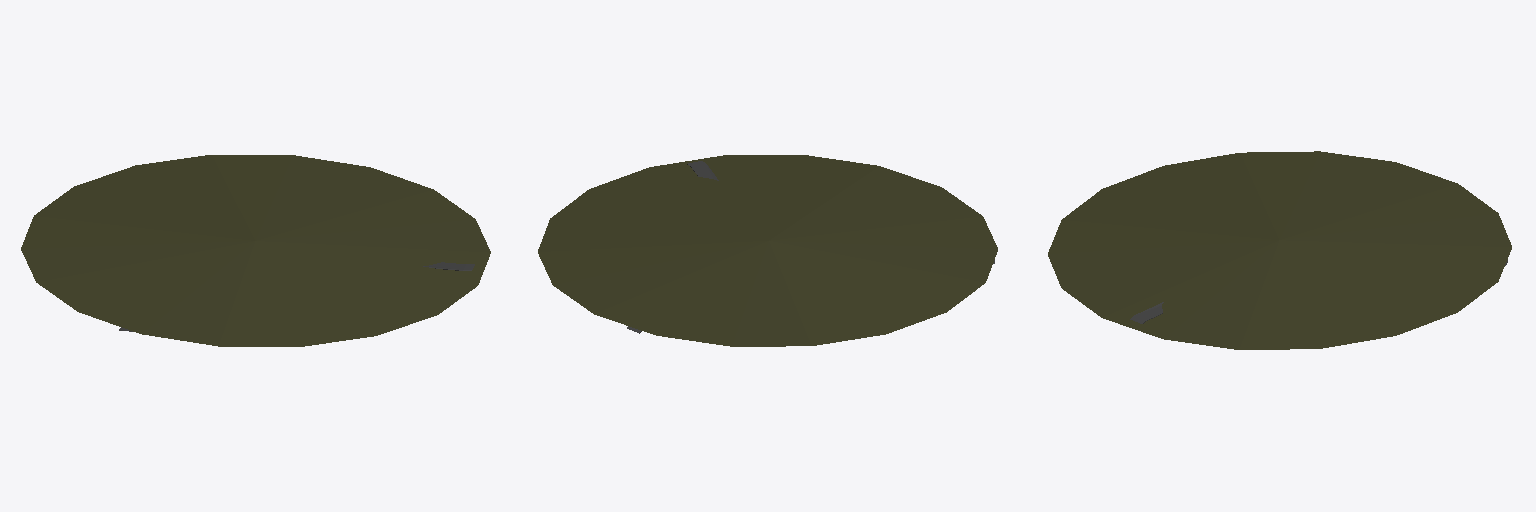
The model's file is propeller.obj.
3 views of the same model, side by side, from view 1: azimuth 30°, elevation 25°; view 2: azimuth 150°, elevation 25°; view 3: azimuth 270°, elevation 25° (orthographic).
Visible parts, largest first — view 1: blur; view 2: blur; view 3: blur.
Part boxes in pixels (left/top/right/bottom): blur: left=21, top=155, right=490, bottom=346; blur: left=538, top=155, right=997, bottom=346; blur: left=1048, top=151, right=1511, bottom=349.
Bounding box in the file's own units: 437 × 32.1 × 441.